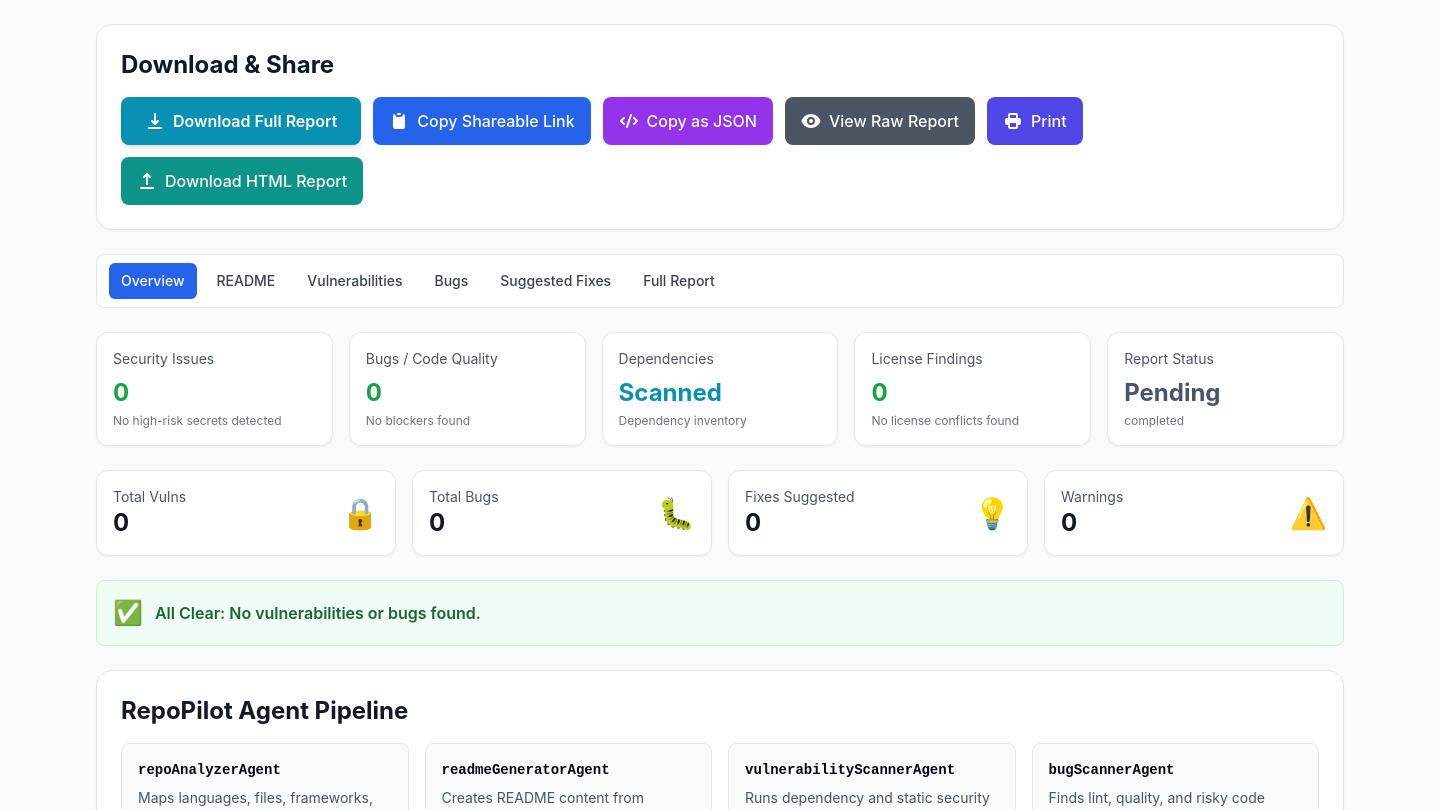
Test case: ResultsDashboard › Final Report › shows fallback when final report is empty
Click the tab "Full Report" at (679, 281), box [631,263,727,299]
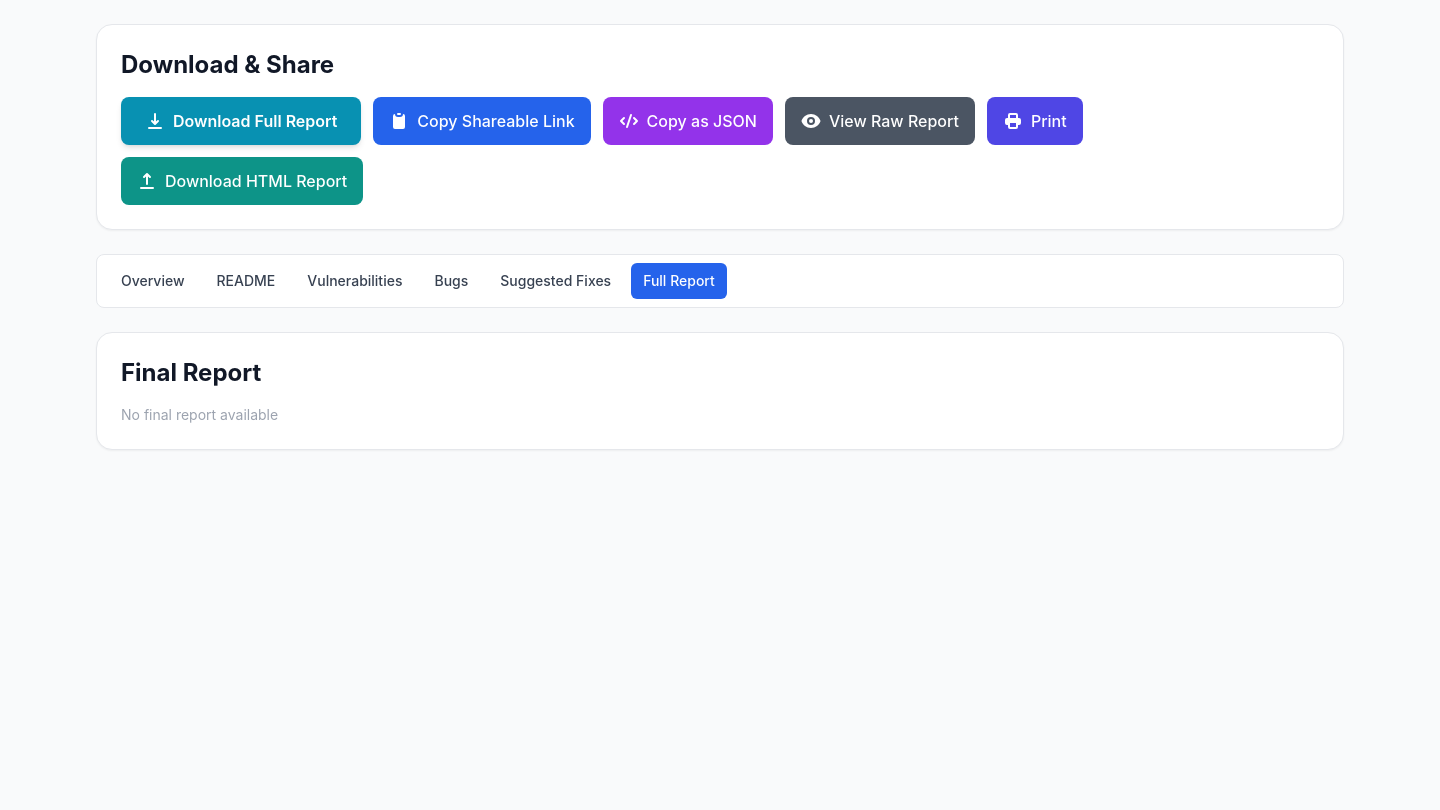
Result: the text "No final report available" is shown at [121,406,278,423]
